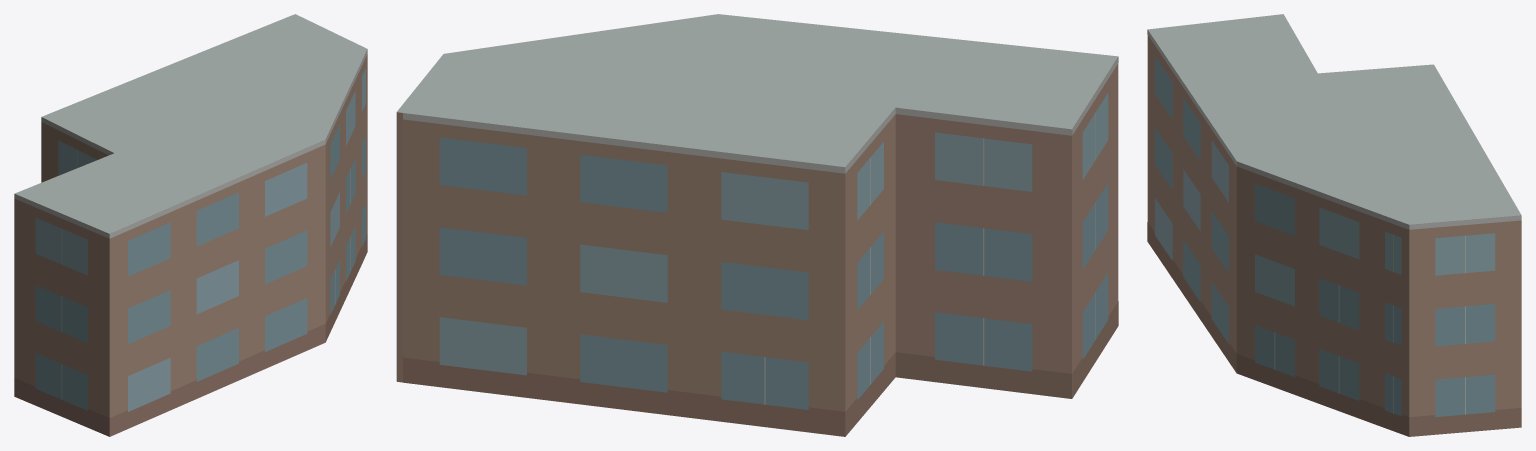
The model's file is survey-upis-32601655.glb.
3 renders of one model, left to right at view 1: azimuth 30°, elevation 25°; view 2: azimuth 150°, elevation 25°; view 3: azimuth 270°, elevation 25°, orthographic. The views are drawn at different scales.
Visible parts, largest first — view 1: survey-upis-32601655.tmp; view 2: survey-upis-32601655.tmp; view 3: survey-upis-32601655.tmp.
Part boxes in pixels (<box>): survey-upis-32601655.tmp: <box>14,14,367,436</box>; survey-upis-32601655.tmp: <box>396,14,1118,436</box>; survey-upis-32601655.tmp: <box>1147,14,1521,436</box>.
Bounding box in the file's own units: 21.74 × 10.2 × 16.3.
